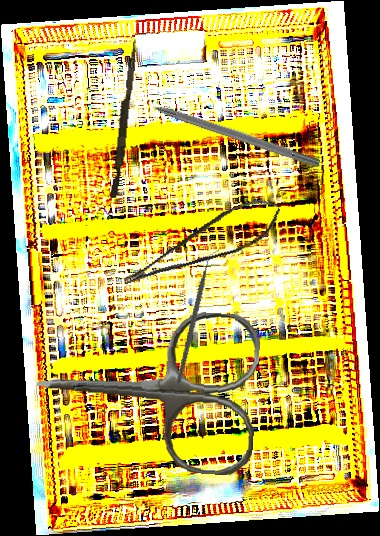Chopper: (141, 248, 256, 387)
Hook Surgical: (132, 93, 322, 169)
Iris Scissors: (31, 301, 262, 477)
Micro Scissor: (112, 192, 289, 290)
Pusher: (110, 38, 138, 199)
